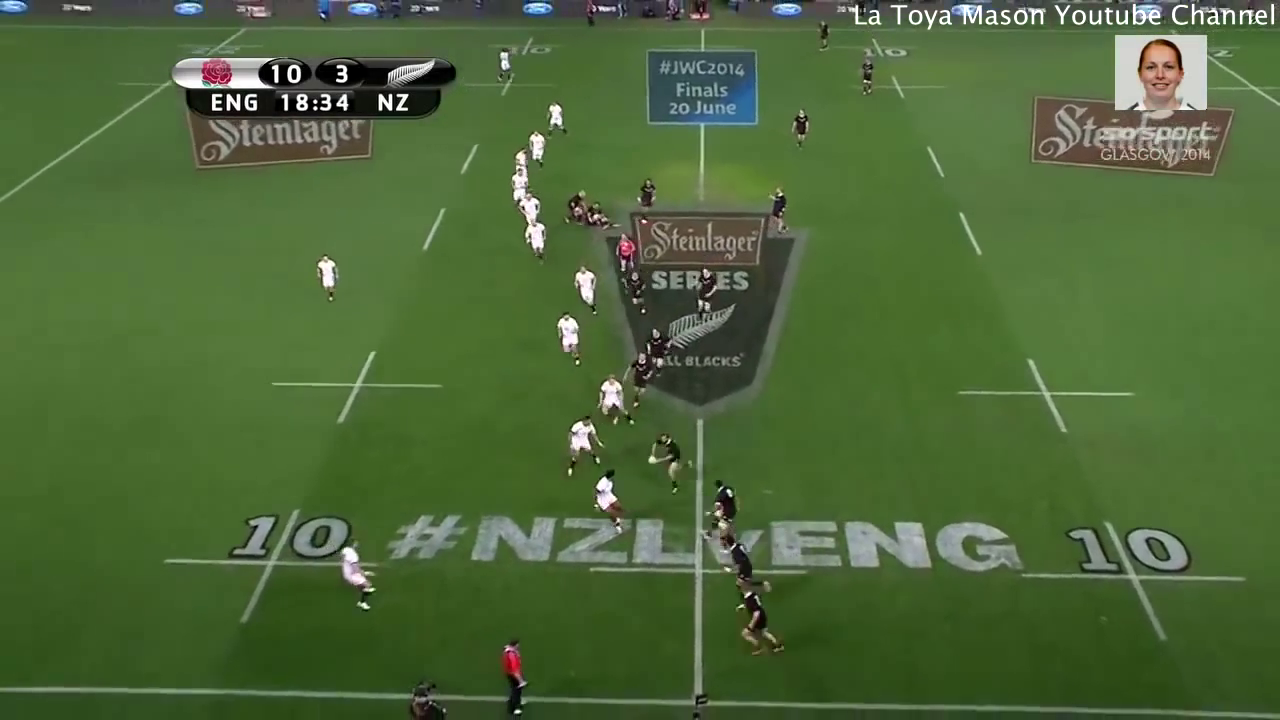10_metre: (1008, 509, 1258, 645), (158, 505, 386, 636), (953, 352, 1142, 434), (268, 347, 446, 429), (462, 69, 560, 100), (851, 73, 952, 103), (834, 35, 923, 59), (489, 35, 565, 57)
ball: (645, 452, 659, 470)
player: (735, 581, 792, 665), (719, 532, 778, 597), (332, 538, 375, 616), (647, 431, 694, 495), (595, 371, 641, 430), (591, 469, 630, 538), (549, 307, 585, 374), (563, 414, 601, 476), (701, 478, 737, 543), (308, 250, 342, 310), (572, 266, 605, 320), (624, 351, 653, 409), (692, 267, 718, 320), (765, 185, 790, 240), (645, 326, 670, 379), (625, 271, 651, 319), (585, 200, 623, 231), (523, 217, 546, 268), (635, 179, 658, 229), (526, 130, 552, 174), (612, 232, 639, 273), (562, 188, 588, 227), (545, 99, 568, 139), (506, 167, 528, 208), (792, 106, 810, 155), (856, 56, 875, 101), (515, 191, 543, 220), (495, 44, 513, 84), (815, 20, 833, 54), (510, 148, 533, 172)
